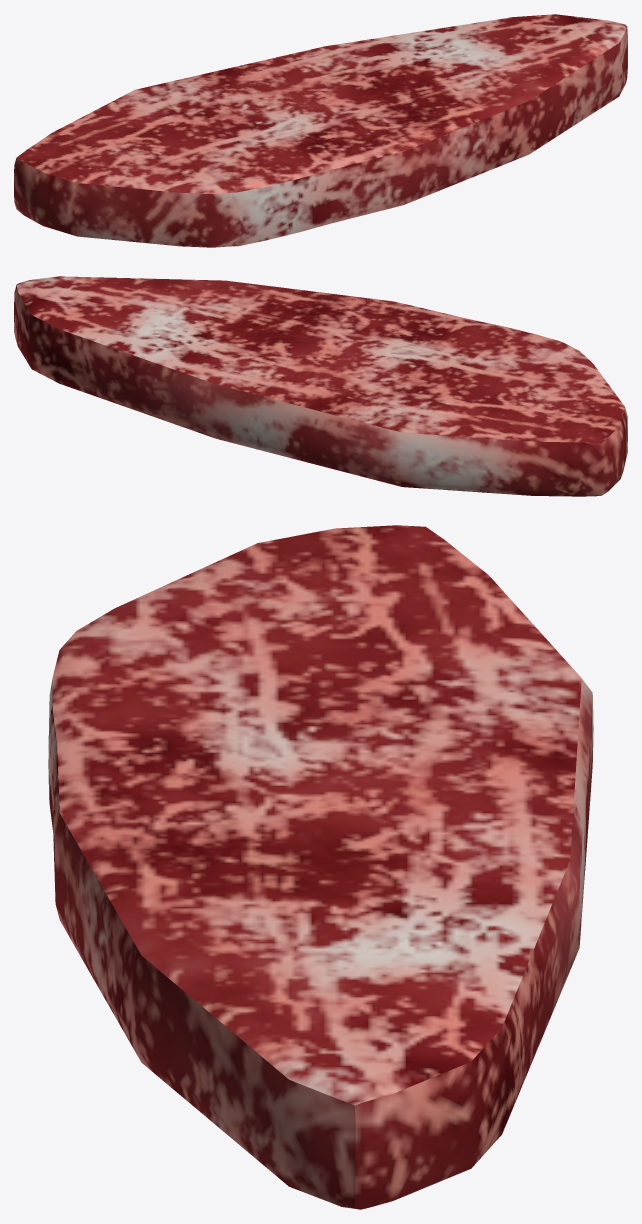
File: Meat.fbx
3 renders of one model, top to bottom at view 1: azimuth 30°, elevation 25°; view 2: azimuth 150°, elevation 25°; view 3: azimuth 270°, elevation 25°, orthographic. The views are drawn at different scales.
Parts seen in each view (by area): view 1: Meat; view 2: Meat; view 3: Meat.
Boxes of the visible parts, x1,y1,x2,y2 form: Meat: (14,14,627,247); Meat: (14,276,627,496); Meat: (48,525,593,1209).
Size of the model in its own units: 44.74 by 4.2 by 17.67.
